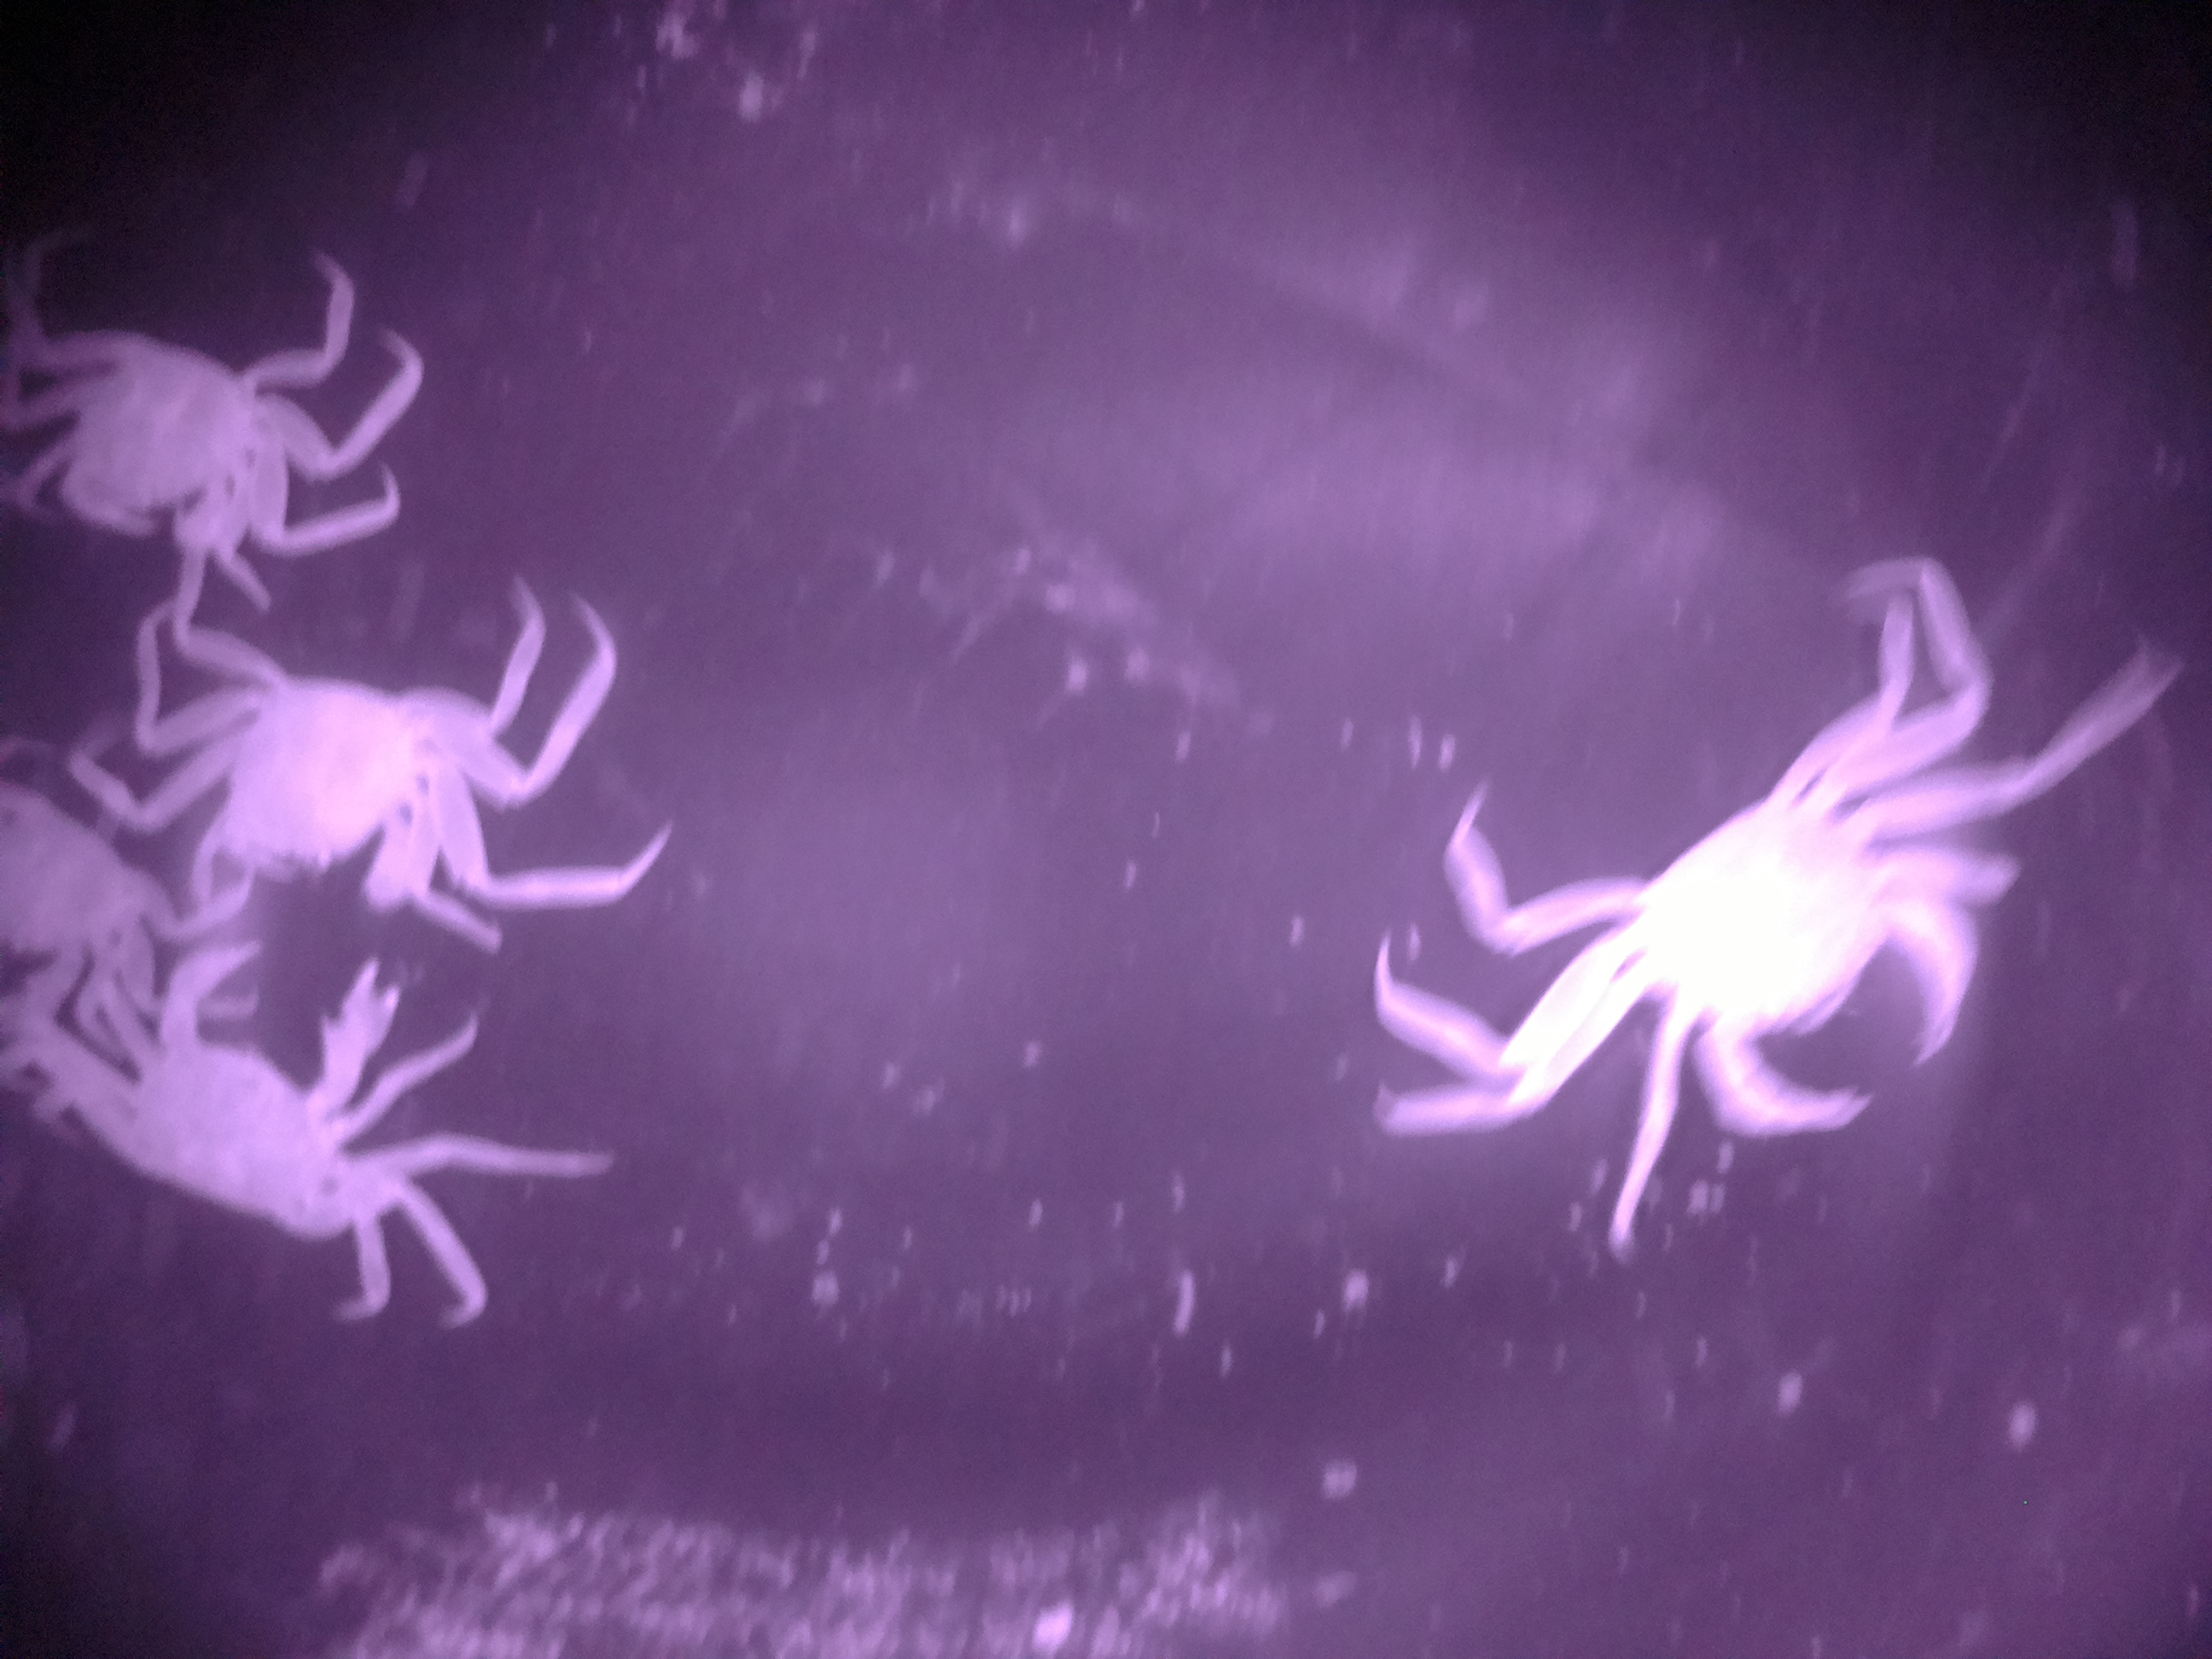Crab: (1388, 664, 2076, 1206), (118, 603, 566, 990), (66, 922, 462, 1331), (16, 244, 352, 620)
